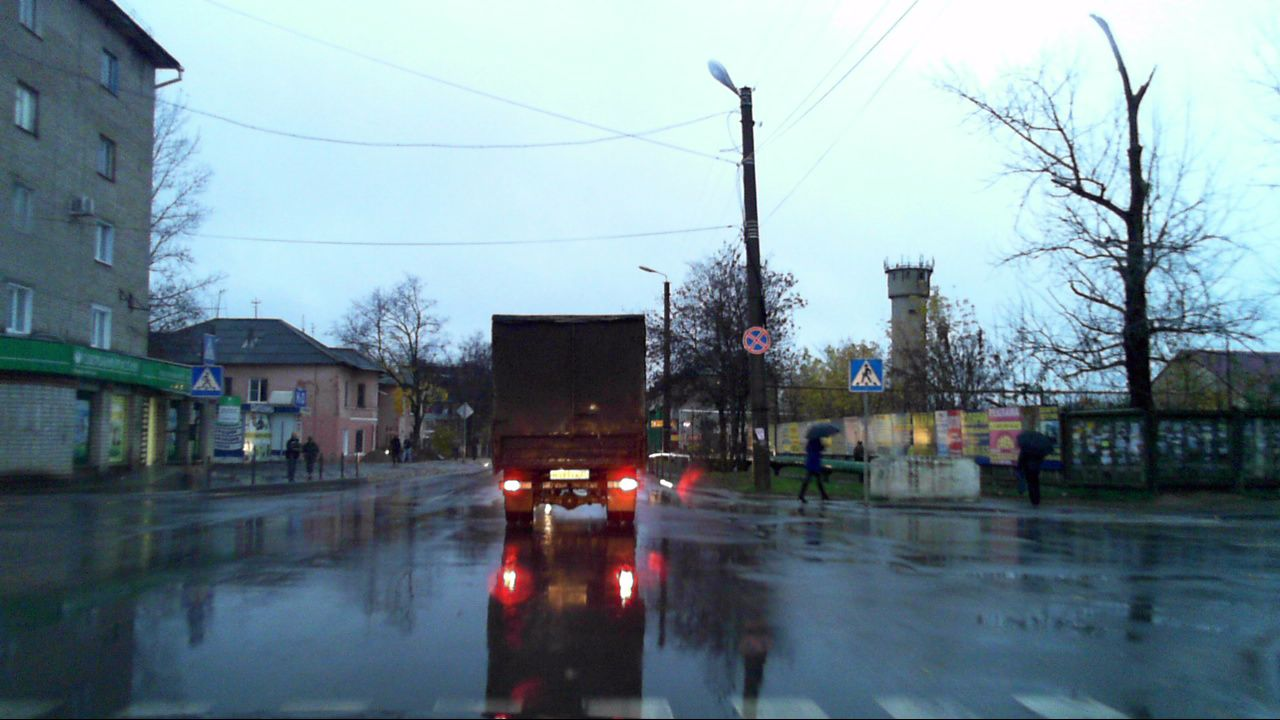No Parking: (742, 326, 771, 354)
